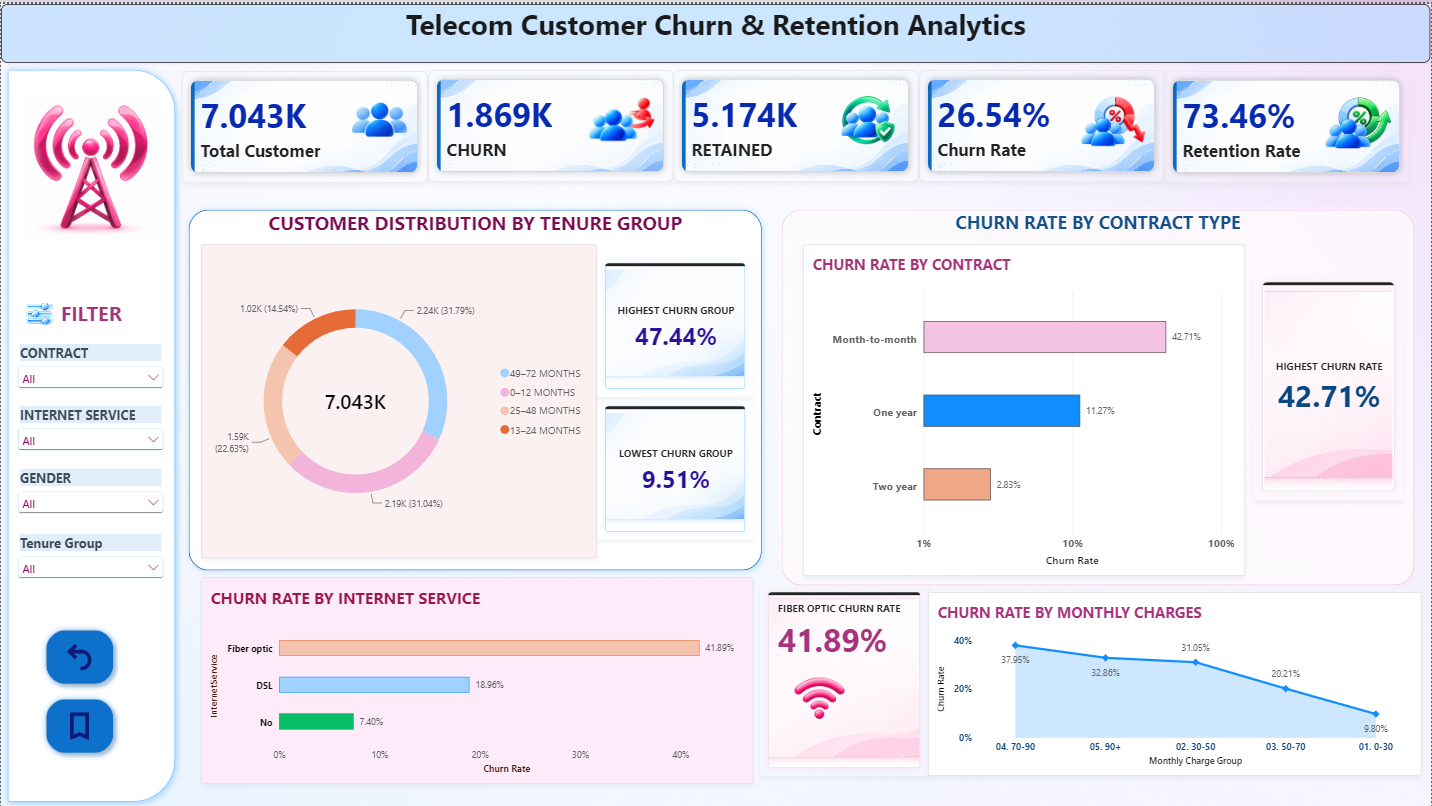

This screenshot's page, from the dashboard's own definition file:
{"tool":"powerbi","page":{"name":"Executive Overview","canvas":[1920,1080],"ordinal":0},"visuals":[{"type":"cardVisual","fields":{"Data":["CountNonNull(telco_churn_cleaned.customerID)"]},"box":[243.1,90,329.7,149.9],"z":0},{"type":"textbox","box":[0,0,1920,79.4],"z":1000},{"type":"cardVisual","fields":{"Data":["CountNonNull(telco_churn_cleaned.Churn)"]},"box":[573.5,89.1,329.7,149.9],"z":2000},{"type":"cardVisual","fields":{"Data":["CountNonNull(telco_churn_cleaned.Churn)"]},"box":[902.7,88.7,329.7,149.9],"z":3000},{"type":"cardVisual","fields":{"Data":["telco_churn_cleaned.Churn Rate"]},"box":[1233,89.1,329.7,149.9],"z":4000},{"type":"cardVisual","fields":{"Data":["telco_churn_cleaned.Retention Rate"]},"box":[1562.2,90,329.7,149.9],"z":5000},{"type":"shape","box":[1039.7,267.3,867.8,522.5],"z":6000},{"type":"clusteredBarChart","title":"CHURN RATE BY CONTRACT","fields":{"Category":["telco_churn_cleaned.Contract"],"Y":["telco_churn_cleaned.Churn Rate"]},"box":[1076.7,322.4,593.8,446.4],"z":7000},{"type":"cardVisual","fields":{"Data":["telco_churn_cleaned.Churn Rate"]},"box":[1682.5,362.5,200,303.8],"z":8000},{"type":"shape","box":[242.6,267.2,787.7,502.5],"z":9000},{"type":"donutChart","title":"CUSTOMER DISTRIBUTION BY TENURE GROUP","fields":{"Category":["telco_churn_cleaned.Tenure Group"],"Y":["CountNonNull(telco_churn_cleaned.customerID)"]},"box":[268.2,322.3,531.9,422.2],"z":10000},{"type":"cardVisual","fields":{"Data":["telco_churn_cleaned.Churn Rate"]},"box":[800,337.5,210,191.4],"z":11000},{"type":"cardVisual","fields":{"Data":["telco_churn_cleaned.Churn Rate"]},"box":[800,529.2,210,191.4],"z":12000},{"type":"shape","box":[0,79.2,243.1,1001.4],"z":13000},{"type":"clusteredBarChart","title":"CHURN RATE BY INTERNET SERVICE","fields":{"Category":["telco_churn_cleaned.InternetService"],"Y":["telco_churn_cleaned.Churn Rate"]},"box":[268.1,769.4,741.7,277.8],"z":14000},{"type":"cardVisual","fields":{"Data":["telco_churn_cleaned.Churn Rate"]},"box":[1019.4,779.2,226.4,258.3],"z":15000},{"type":"image","box":[28.2,120.9,185.4,201.5],"z":16000},{"type":"slicer","fields":{"Values":["telco_churn_cleaned.Contract"]},"box":[17.5,456.7,205.5,76.6],"z":17000},{"type":"slicer","fields":{"Values":["telco_churn_cleaned.InternetService"]},"box":[17.5,540,205.5,76.6],"z":18000},{"type":"slicer","fields":{"Values":["telco_churn_cleaned.gender"]},"box":[17.5,624.6,205.5,76.6],"z":19000},{"type":"slicer","fields":{"Values":["telco_churn_cleaned.Tenure Group"]},"box":[17.5,711.9,205.5,76.6],"z":20000},{"type":"textbox","box":[75.2,396.3,86.8,36.8],"z":21000},{"type":"image","box":[28.1,396.3,47.1,36.8],"z":22000},{"type":"lineChart","title":"CHURN RATE BY MONTHLY CHARGES","fields":{"Category":["telco_churn_cleaned.Monthly Charge Group"],"Y":["telco_churn_cleaned.Churn Rate"]},"box":[1245,790,663,247],"z":23000},{"type":"actionButton","box":[51.4,923.6,109.7,91.7],"z":24000},{"type":"actionButton","box":[51.4,831.9,109.7,91.7],"z":25000}]}

Visuals, with their boxes in screenshot pixels (x1, y1, x2, y2), scaled from the page's 1920x1080 canvas onto the 1432x806 screenshot:
cardVisual - CountNonNull(telco_churn_cleaned.customerID): [left=181, top=67, right=427, bottom=179]
textbox: [left=0, top=0, right=1431, bottom=59]
cardVisual - CountNonNull(telco_churn_cleaned.Churn): [left=428, top=66, right=674, bottom=178]
cardVisual - CountNonNull(telco_churn_cleaned.Churn): [left=673, top=66, right=919, bottom=178]
cardVisual - telco_churn_cleaned.Churn Rate: [left=920, top=66, right=1166, bottom=178]
cardVisual - telco_churn_cleaned.Retention Rate: [left=1165, top=67, right=1411, bottom=179]
shape: [left=775, top=199, right=1423, bottom=589]
"CHURN RATE BY CONTRACT" clusteredBarChart: [left=803, top=241, right=1246, bottom=574]
cardVisual - telco_churn_cleaned.Churn Rate: [left=1255, top=271, right=1404, bottom=497]
shape: [left=181, top=199, right=768, bottom=574]
"CUSTOMER DISTRIBUTION BY TENURE GROUP" donutChart: [left=200, top=241, right=597, bottom=556]
cardVisual - telco_churn_cleaned.Churn Rate: [left=597, top=252, right=753, bottom=395]
cardVisual - telco_churn_cleaned.Churn Rate: [left=597, top=395, right=753, bottom=538]
shape: [left=0, top=59, right=181, bottom=805]
"CHURN RATE BY INTERNET SERVICE" clusteredBarChart: [left=200, top=574, right=753, bottom=782]
cardVisual - telco_churn_cleaned.Churn Rate: [left=760, top=582, right=929, bottom=774]
image: [left=21, top=90, right=159, bottom=241]
slicer - telco_churn_cleaned.Contract: [left=13, top=341, right=166, bottom=398]
slicer - telco_churn_cleaned.InternetService: [left=13, top=403, right=166, bottom=460]
slicer - telco_churn_cleaned.gender: [left=13, top=466, right=166, bottom=523]
slicer - telco_churn_cleaned.Tenure Group: [left=13, top=531, right=166, bottom=588]
textbox: [left=56, top=296, right=121, bottom=323]
image: [left=21, top=296, right=56, bottom=323]
"CHURN RATE BY MONTHLY CHARGES" lineChart: [left=929, top=590, right=1423, bottom=774]
actionButton: [left=38, top=689, right=120, bottom=758]
actionButton: [left=38, top=621, right=120, bottom=689]
